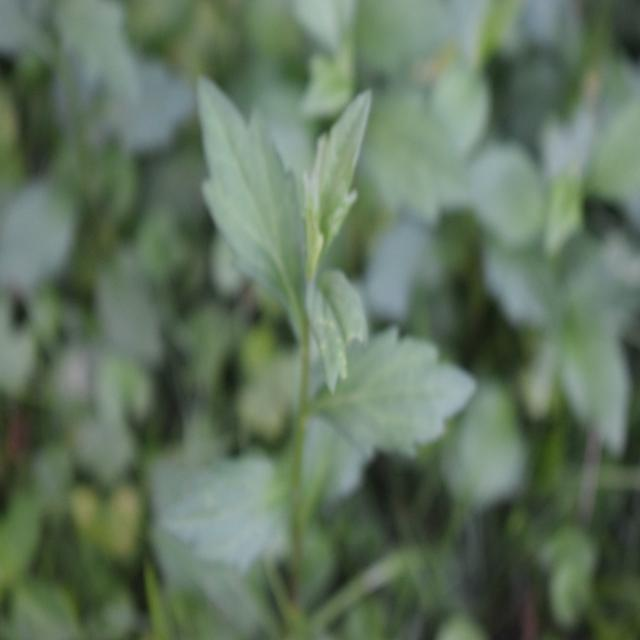Indian aster: (195, 62, 454, 487)
